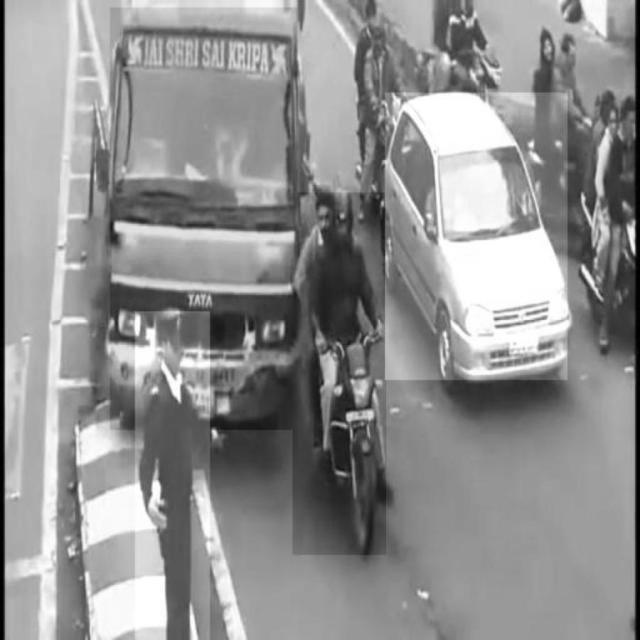person: (136, 311, 210, 639)
vehicle: (111, 8, 298, 430), (386, 92, 568, 380), (293, 193, 386, 555)
